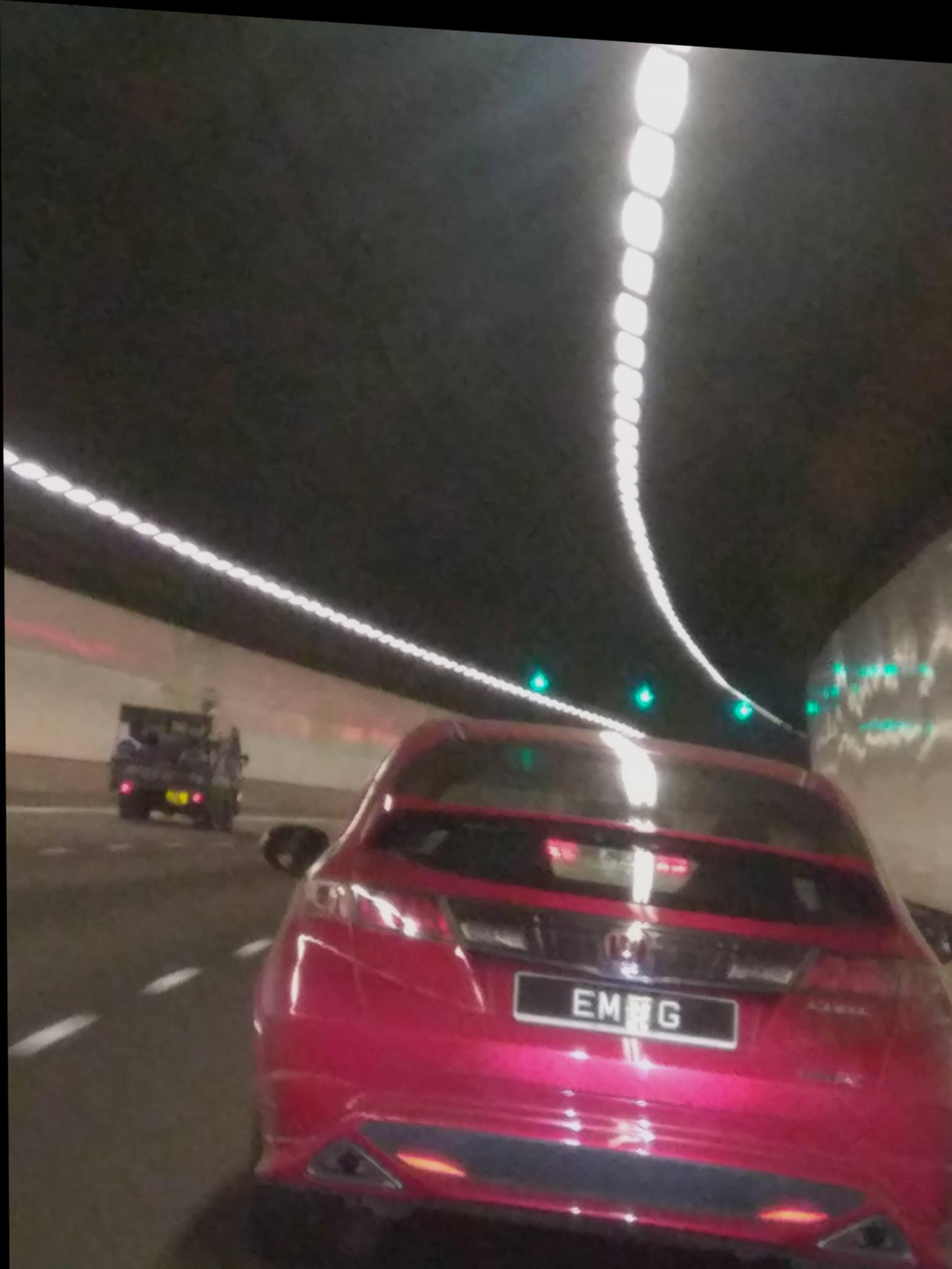License_Plate: (495, 944, 769, 1089)
